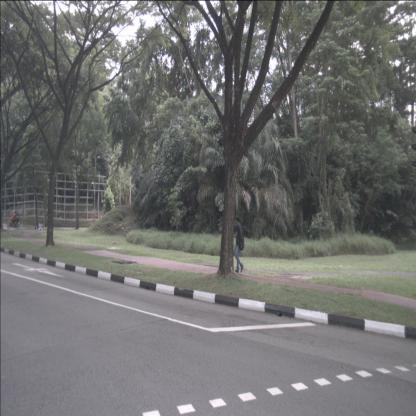human-pedestrian-adult: (233, 216, 245, 274)
vehicle-motorcycle: (7, 210, 20, 230)
